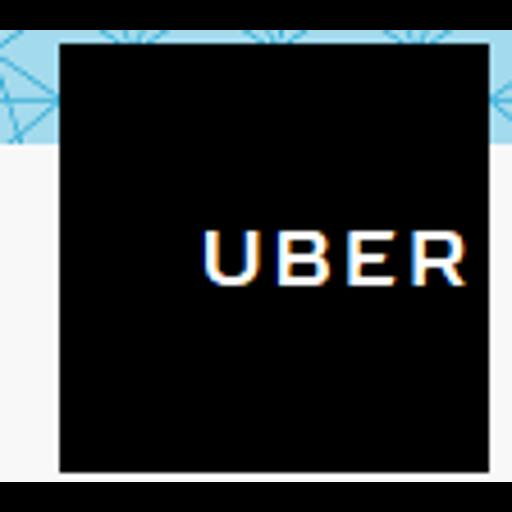Uber: (0, 30, 512, 482)
